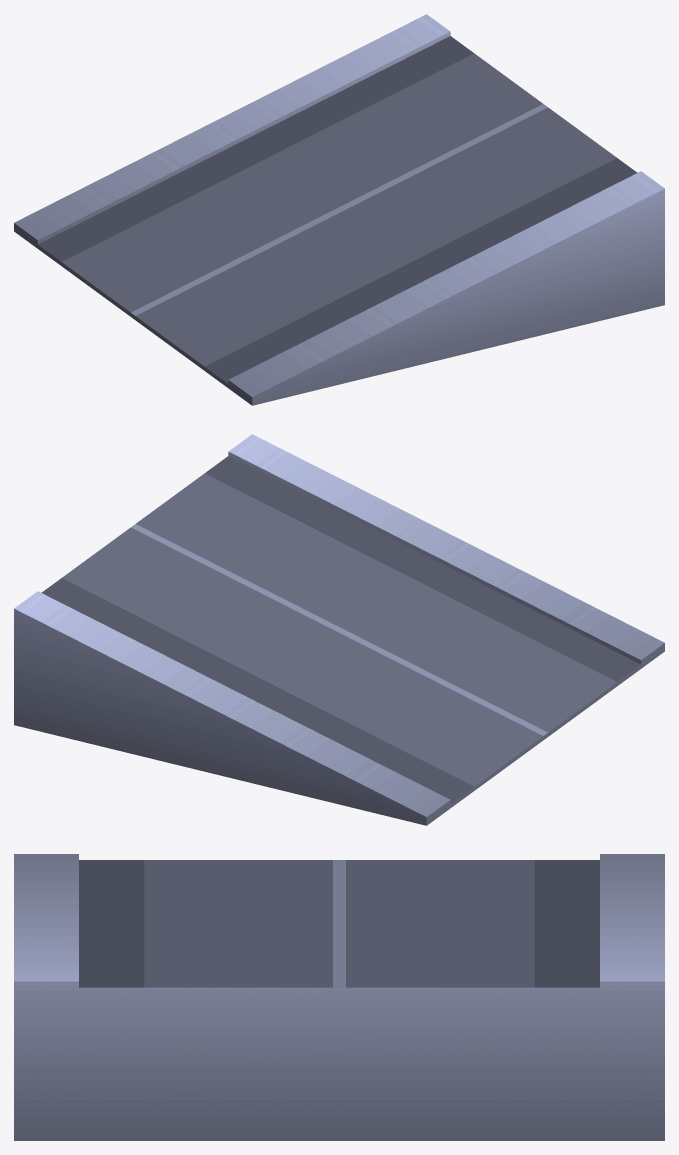
The model's file is road-slant.glb.
The picture shows the model from 3 angles, top to bottom: view 1: azimuth 30°, elevation 25°; view 2: azimuth 150°, elevation 25°; view 3: azimuth 270°, elevation 25°; orthographic projection. The views are drawn at different scales.
Visible parts, largest first — view 1: road-slant; view 2: road-slant; view 3: road-slant.
Part boxes in pixels (<box>): road-slant: <box>14,14,664,405</box>; road-slant: <box>14,434,664,825</box>; road-slant: <box>14,854,664,1140</box>.
Bounding box in the file's own units: 1 × 0.27 × 1.
